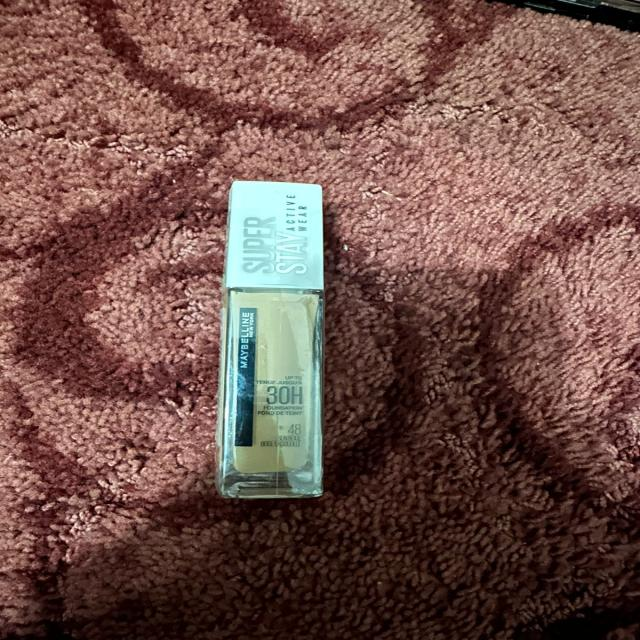foundation: (216, 165, 340, 518)
